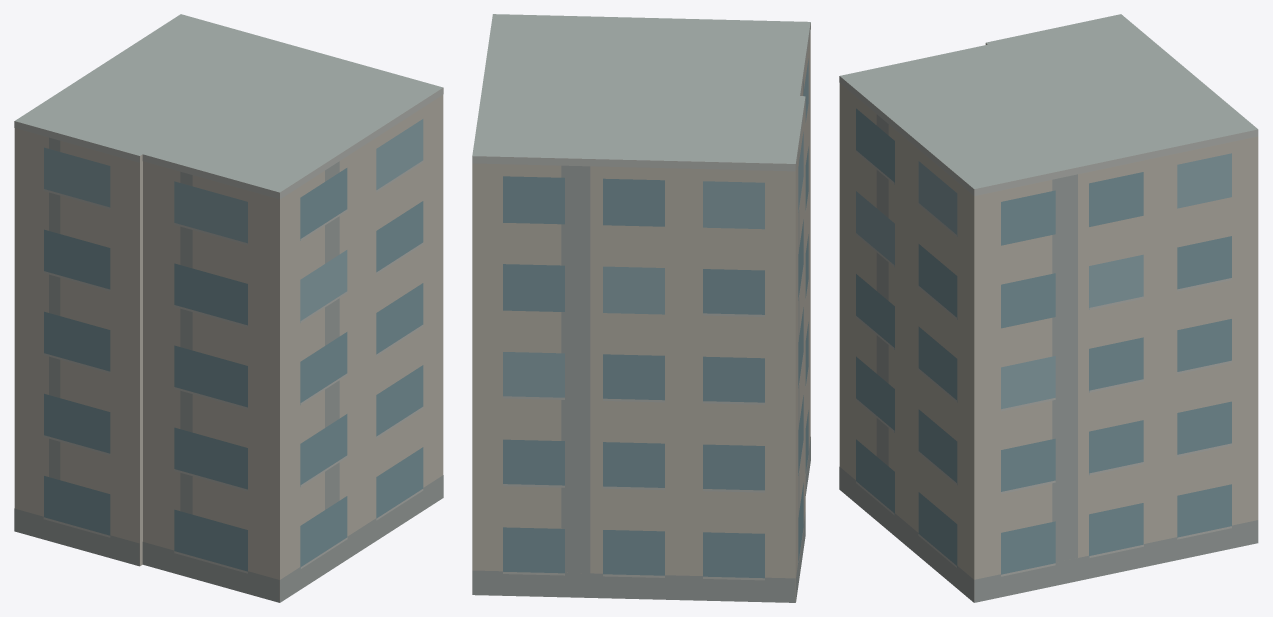
Rendered from survey-upis-33038179.glb.
The picture shows the model from 3 angles, left to right: view 1: azimuth 30°, elevation 25°; view 2: azimuth 150°, elevation 25°; view 3: azimuth 270°, elevation 25°; orthographic projection. The views are drawn at different scales.
Visible parts, largest first — view 1: survey-upis-33038179.tmp; view 2: survey-upis-33038179.tmp; view 3: survey-upis-33038179.tmp.
Boxes of the visible parts, x1,y1,x2,y2 form: survey-upis-33038179.tmp: (14, 14, 443, 602); survey-upis-33038179.tmp: (472, 14, 810, 602); survey-upis-33038179.tmp: (839, 14, 1258, 602).
Size of the model in its own units: 13.22 by 14.55 by 13.36.
